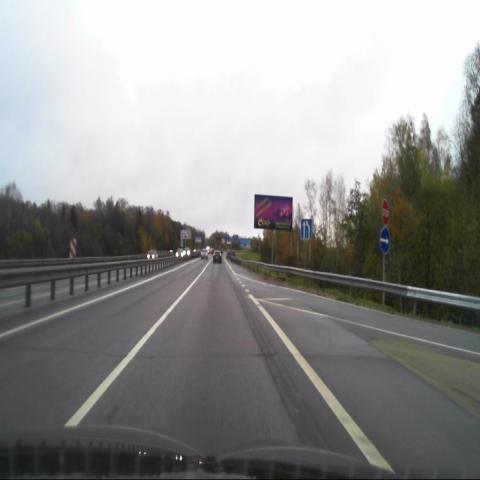4_1_2_1: (380, 228, 389, 254)
